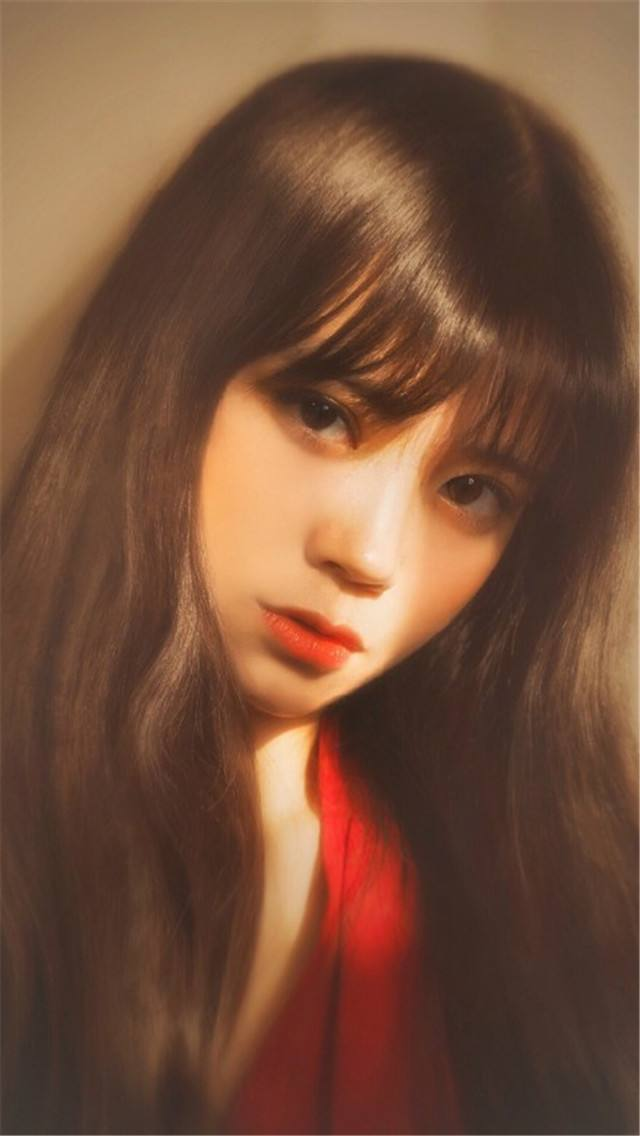person: (70, 92, 622, 979)
